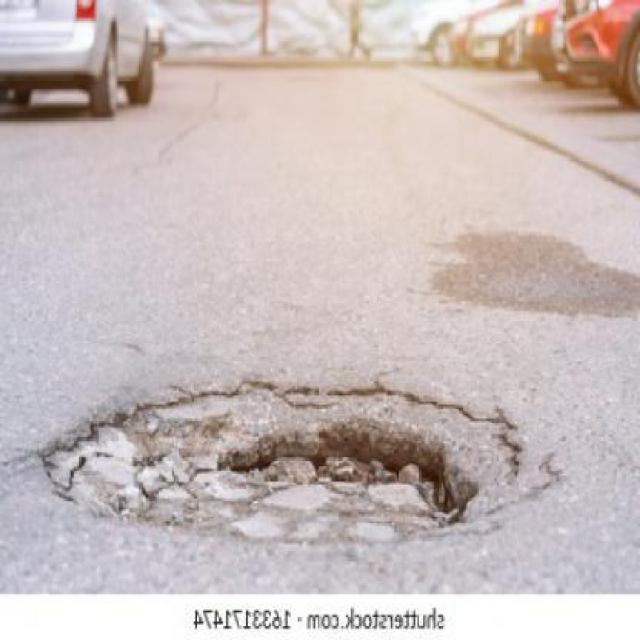pothole: (32, 375, 525, 552)
